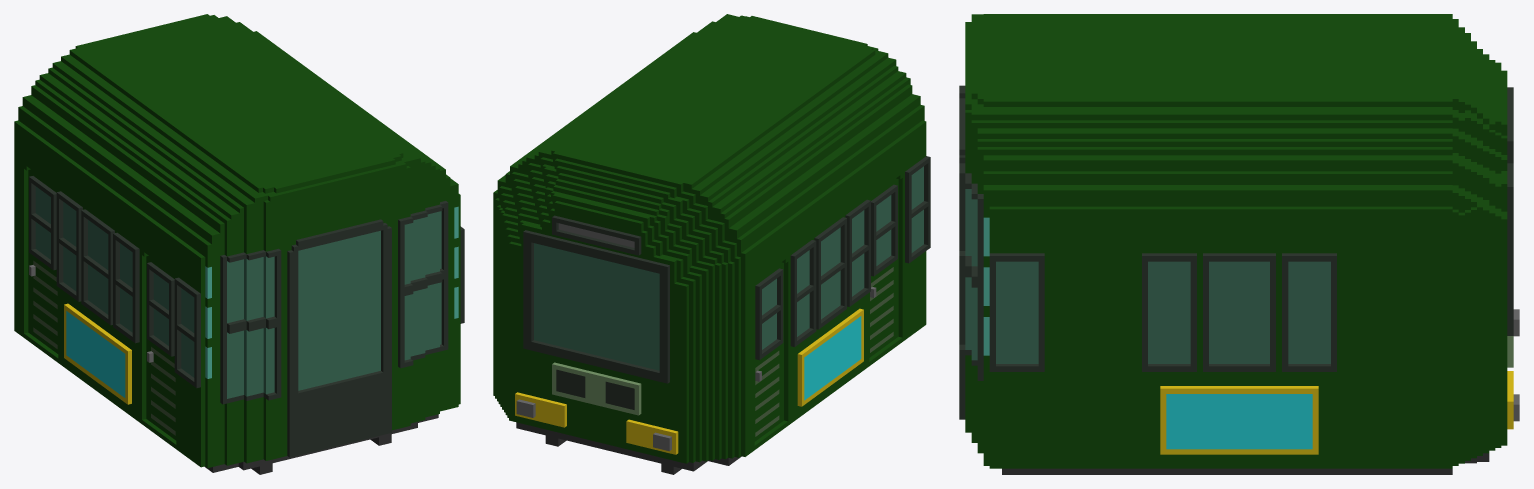
File: cabina.obj
3 renders of one model, left to right at view 1: azimuth 30°, elevation 25°; view 2: azimuth 150°, elevation 25°; view 3: azimuth 270°, elevation 25°, orthographic. The views are drawn at different scales.
Size of the model in its own units: 6.3 by 6.6 by 9.2.
Materials: 1 (1 with a texture image).
